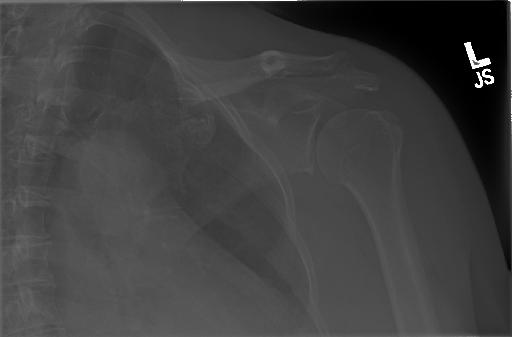shoulder fracture: (357, 103, 411, 154)
